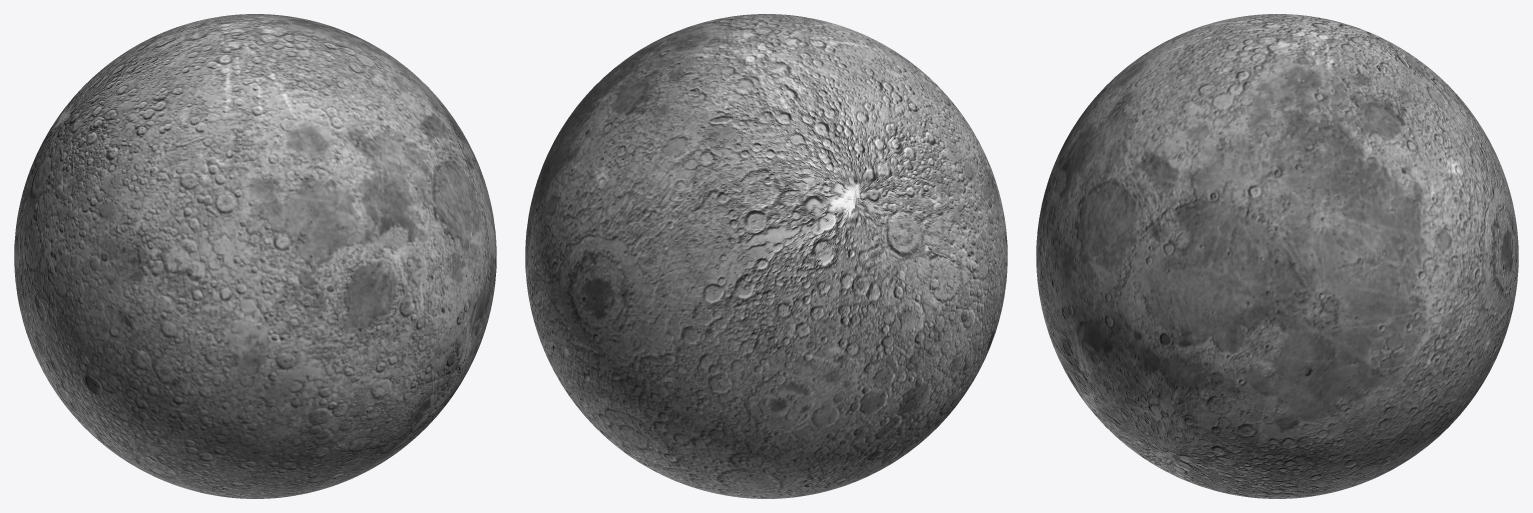
Rendered from MOON.obj.
3 renders of one model, left to right at view 1: azimuth 30°, elevation 25°; view 2: azimuth 150°, elevation 25°; view 3: azimuth 270°, elevation 25°, orthographic.
Parts seen in each view (by area): view 1: Sphere.001; view 2: Sphere.001; view 3: Sphere.001.
Part boxes in pixels (x1=…): Sphere.001: x1=14, y1=14, x2=496, y2=498; Sphere.001: x1=525, y1=14, x2=1007, y2=498; Sphere.001: x1=1036, y1=14, x2=1518, y2=498.
Size of the model in its own units: 4.02 by 4.07 by 4.02.
2 materials, 1 textured.
